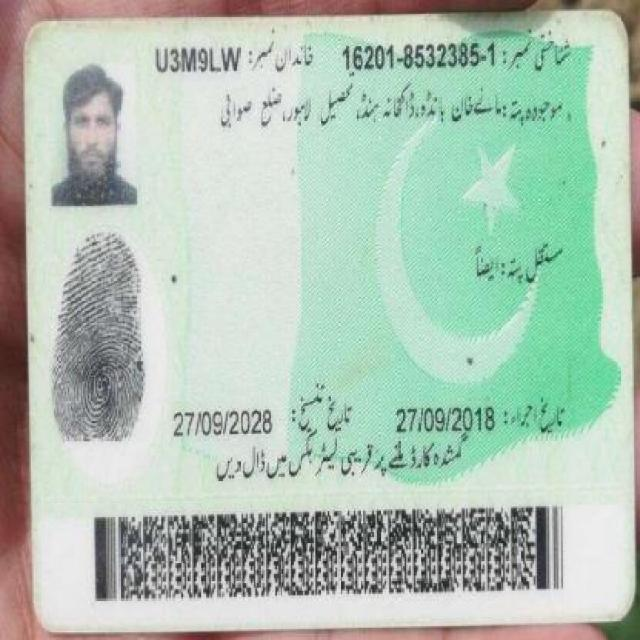Back: (12, 17, 623, 620)
